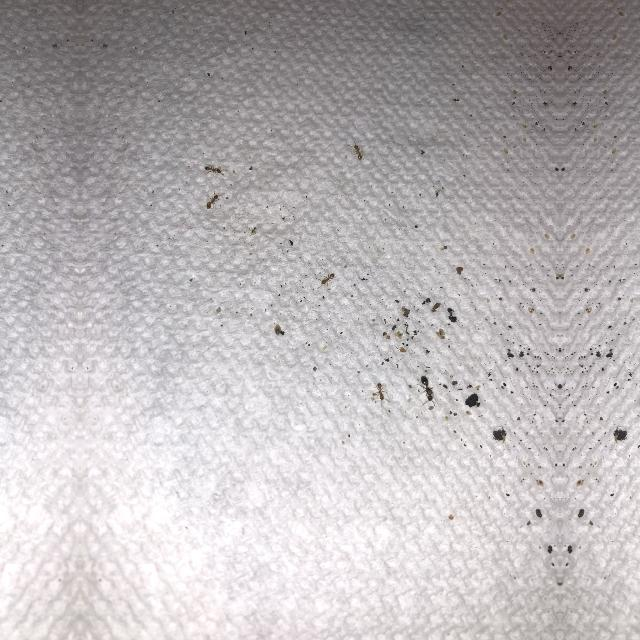Temnothorax: (417, 370, 437, 408), (203, 160, 224, 180), (318, 268, 336, 290), (374, 379, 386, 405), (206, 190, 220, 212), (351, 140, 364, 162)
